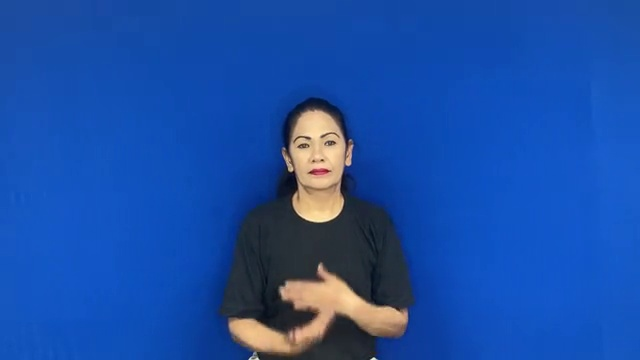bread: (269, 257, 365, 349)
